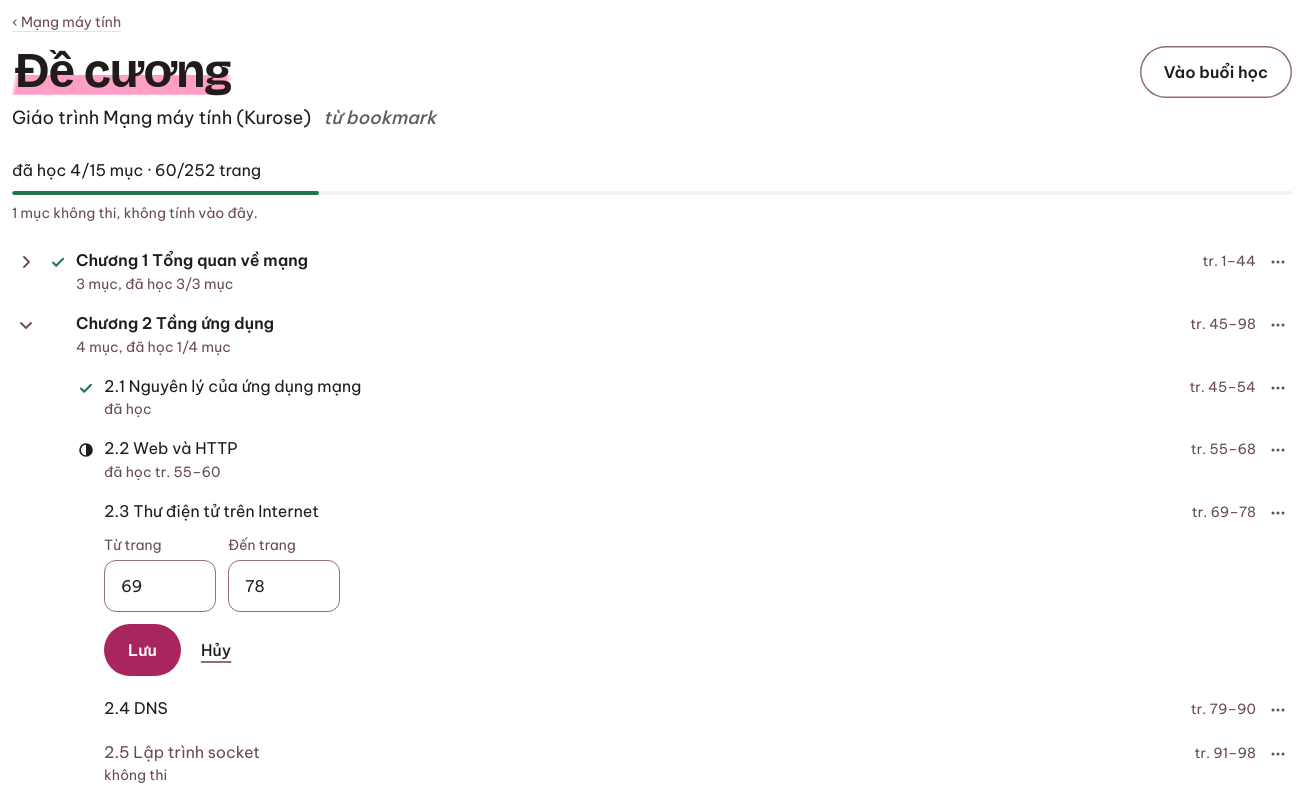
Test: edit range (US-13 AC4) › a valid range saves, closes the panel, returns focus to the row and the source says 'bạn đã sửa'
Replace the text in the field labelled "Đến trang" with "77" at (284, 586), box [228,560,340,612]
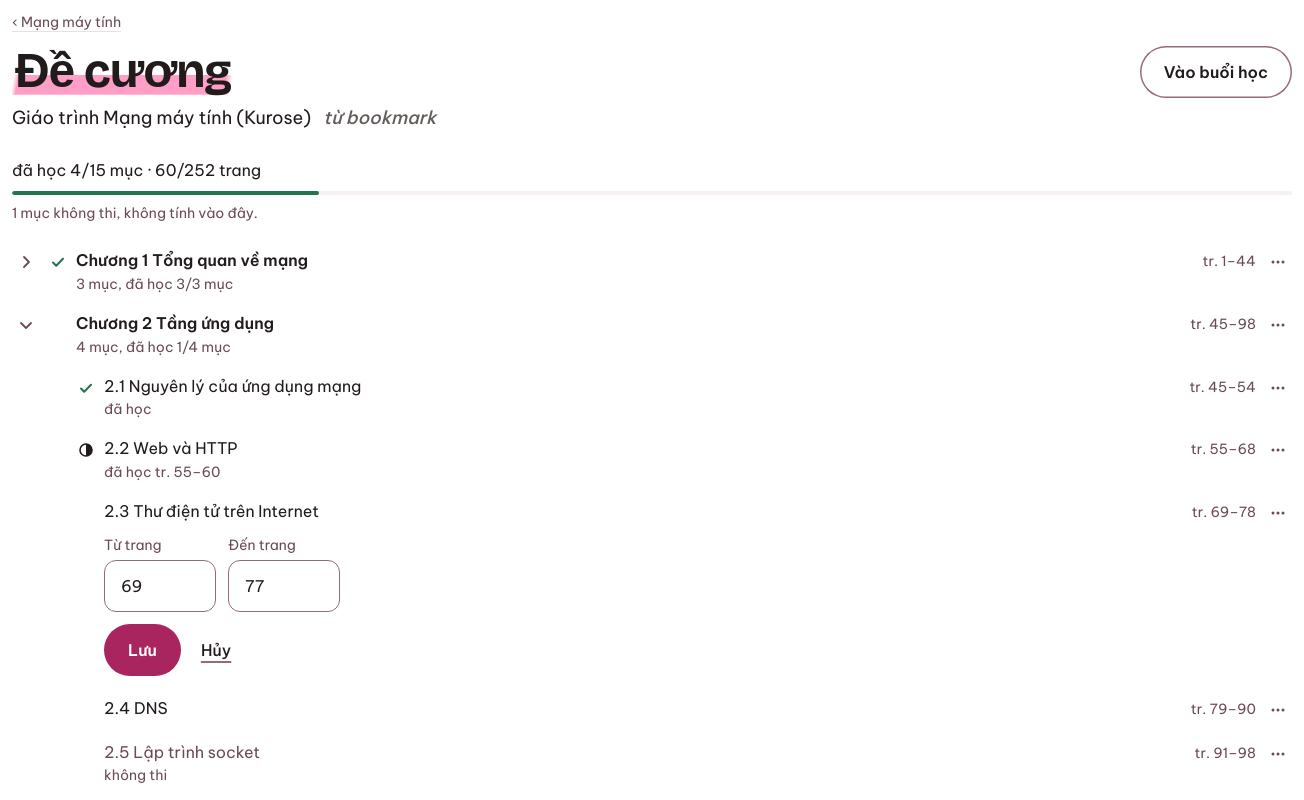
Click the button "Lưu" at (142, 650), box [104,624,181,676]
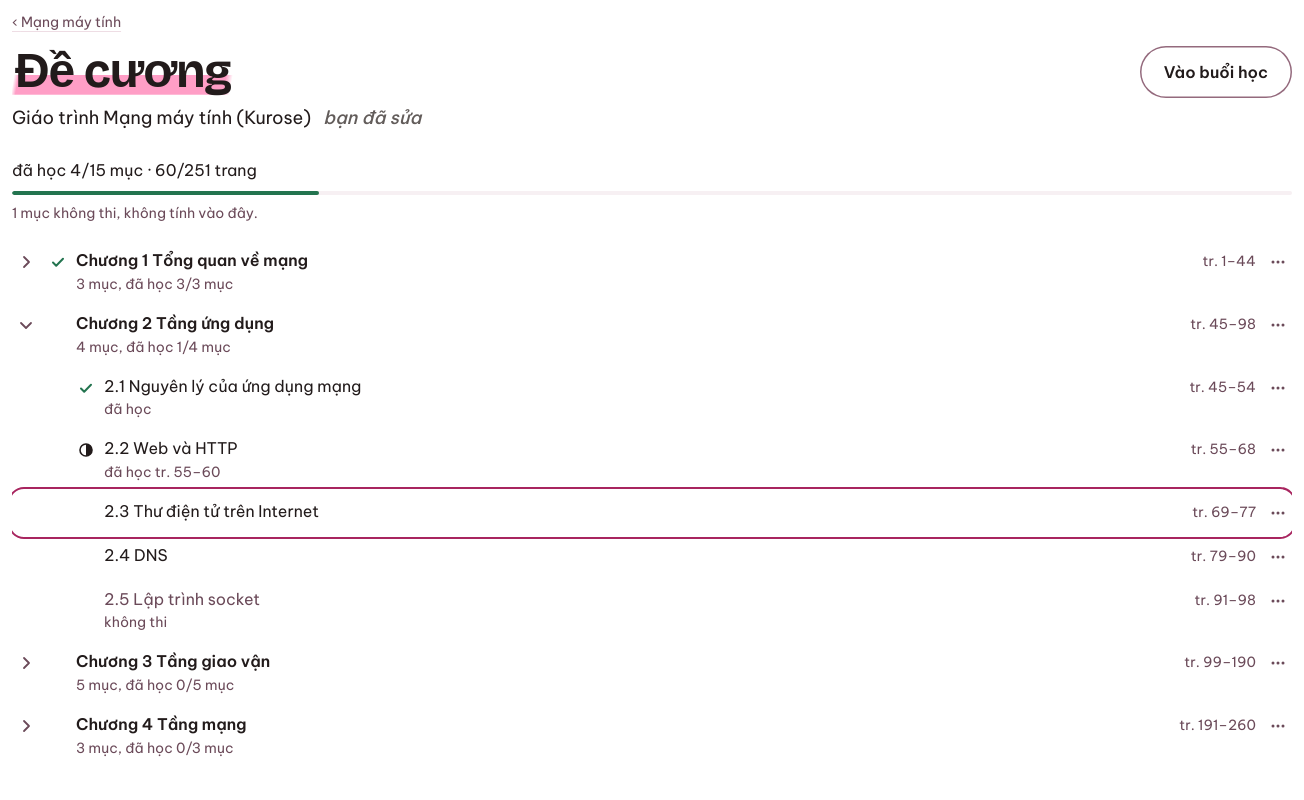
Check: the element showing "Giáo trình Mạng máy tính (Kurose) bạn đã sửa" is shown, box [12,106,421,129]
